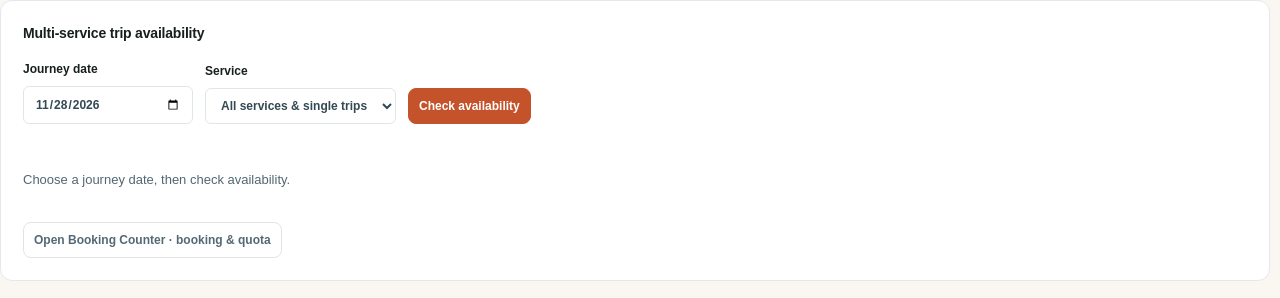
Test: requires explicit availability search and clears stale results when date changes
Click the button "Check availability" at (469, 106), box [408, 88, 531, 124]
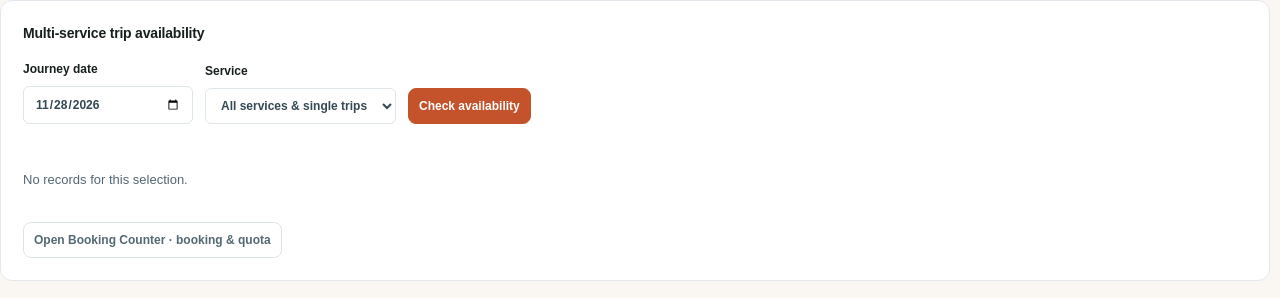
expect the text "No records for this selection." is shown: met, box [23, 172, 188, 187]
Type "2030-12-01" into the date field labelled "Journey date" at (108, 105), box [23, 86, 193, 124]
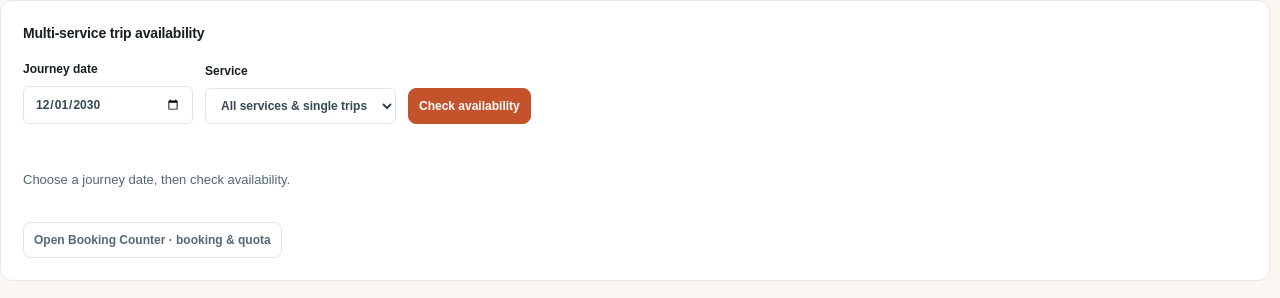
expect the text "Choose a journey date, then check availability." is shown: met, box [23, 172, 290, 187]
